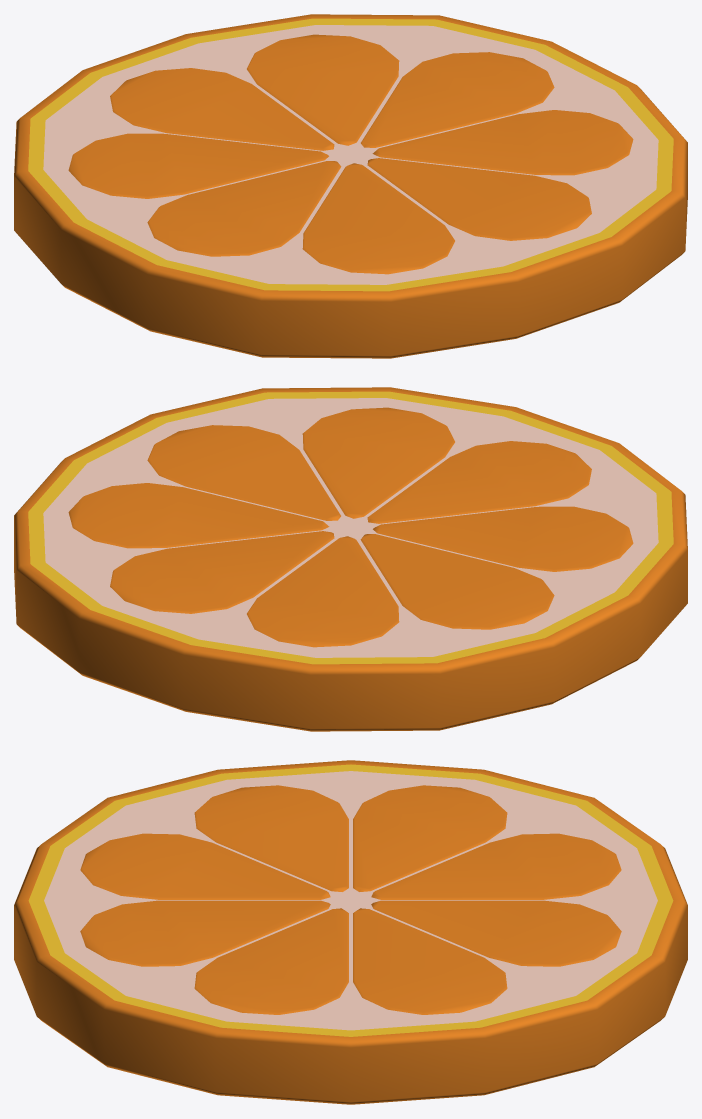
Rendered from Orange_Slice.fbx.
3 views of the same model, one above another, from view 1: azimuth 30°, elevation 25°; view 2: azimuth 150°, elevation 25°; view 3: azimuth 270°, elevation 25° (orthographic).
Parts seen in each view (by area): view 1: Orange_Slice; view 2: Orange_Slice; view 3: Orange_Slice.
Part boxes in pixels (<box>): Orange_Slice: <box>14,14,687,358</box>; Orange_Slice: <box>14,387,687,731</box>; Orange_Slice: <box>14,760,687,1104</box>.
Bounding box in the file's own units: 13.28 × 1.46 × 13.28.
